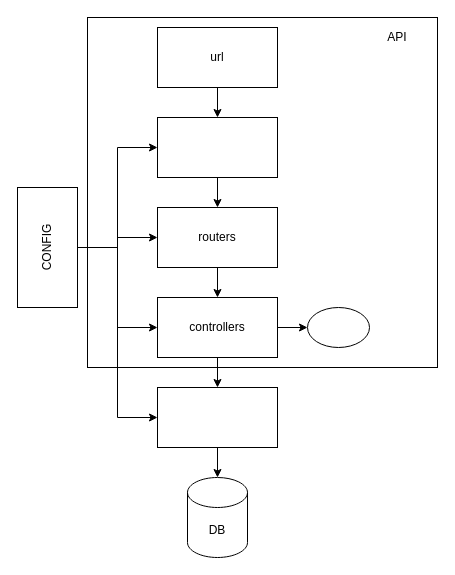
The diagram is 455 pixels wide and 575 high, and some of its shapes have lost their labels. Here are the shapes that lost their labels. From the top down, the centre of each, then its label:
At point (217, 147): "server".
At point (338, 327): "business".
At point (217, 417): "services".
